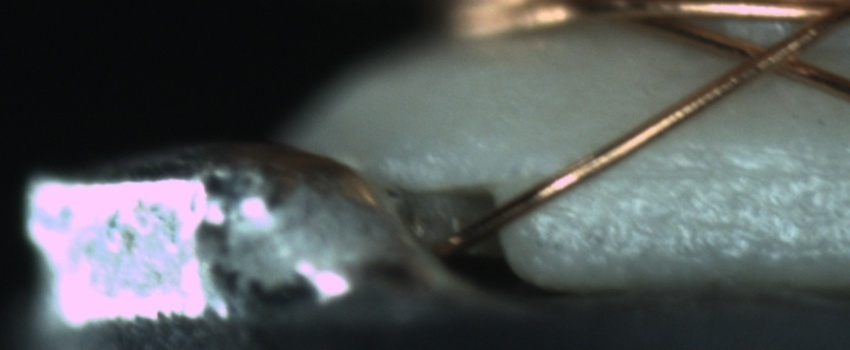CL: (727, 30, 819, 85)
DL: (608, 136, 843, 206)
